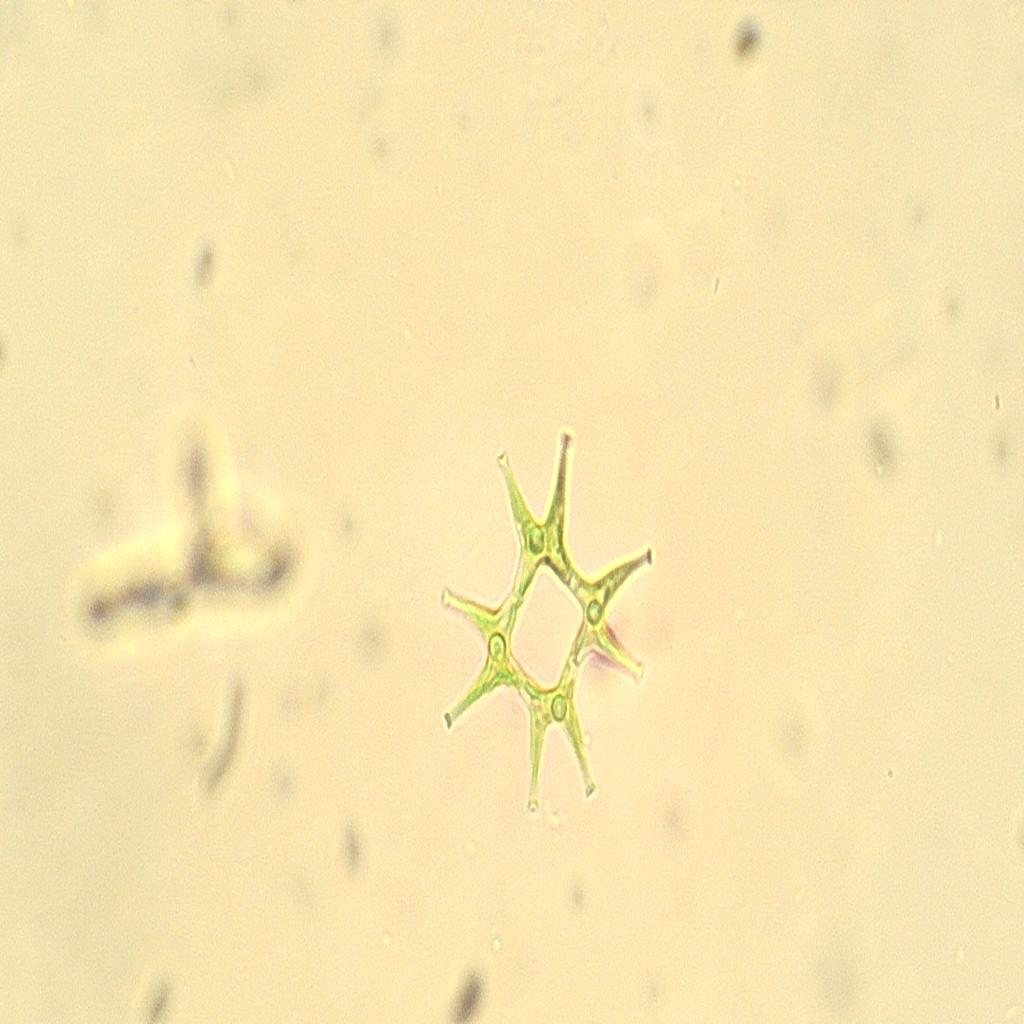Pediastrum_CO: (438, 400, 658, 840)
